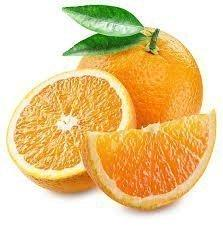non-mango: (10, 5, 222, 211)
